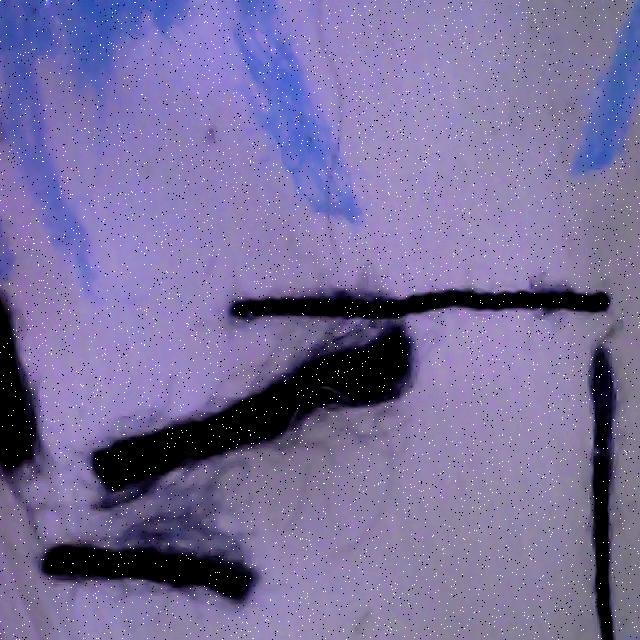fibers: (79, 319, 428, 500), (211, 0, 370, 240), (40, 544, 258, 602), (230, 289, 612, 320), (589, 345, 618, 640), (0, 299, 36, 471), (1, 0, 1, 0)
